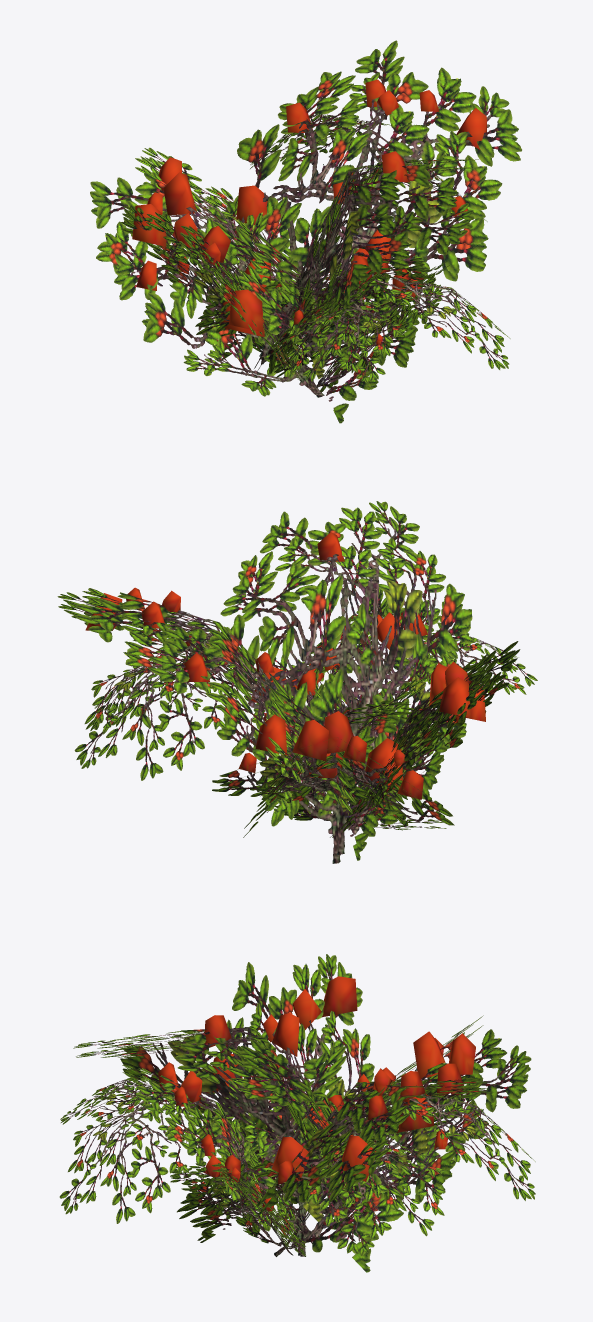
Rendered from fruit_bush_v4.glb.
3 views of the same model, one above another, from view 1: azimuth 30°, elevation 25°; view 2: azimuth 150°, elevation 25°; view 3: azimuth 270°, elevation 25° (orthographic). The views are drawn at different scales.
Parts seen in each view (by area): view 1: berry_bush; view 2: berry_bush; view 3: berry_bush.
Boxes of the visible parts, x1,y1,x2,y2 form: berry_bush: [90, 40, 521, 423]; berry_bush: [57, 501, 537, 863]; berry_bush: [59, 954, 535, 1272].
Size of the model in its own units: 2.36 by 1.2 by 2.25.
Materials: 1 (1 with a texture image).
